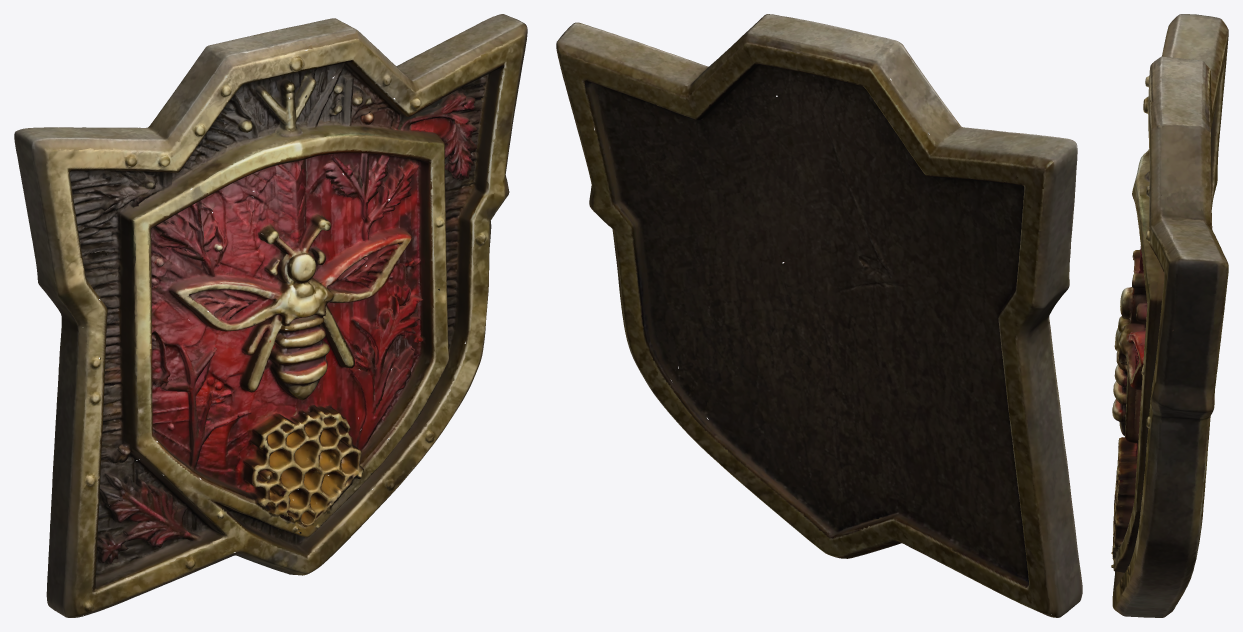
Rendered from emblem-hq.glb.
3 views of the same model, side by side, from view 1: azimuth 30°, elevation 25°; view 2: azimuth 150°, elevation 25°; view 3: azimuth 270°, elevation 25° (orthographic). The views are drawn at different scales.
Visible parts, largest first — view 1: emblem-hq; view 2: emblem-hq; view 3: emblem-hq.
Part boxes in pixels (bbox=[...]): emblem-hq: bbox=[14, 14, 527, 617]; emblem-hq: bbox=[556, 14, 1082, 617]; emblem-hq: bbox=[1111, 14, 1228, 617].
Size of the model in its own units: 0.9745 by 0.9793 by 0.1974.
Materials: 1 (1 with a texture image).
